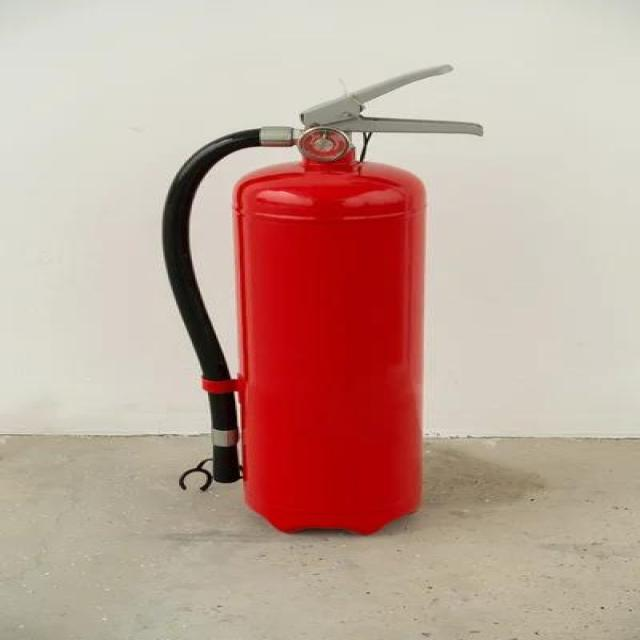fire_extinguisher: (158, 60, 484, 537)
